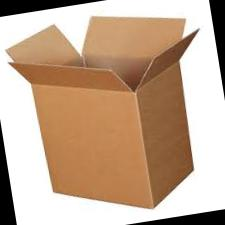Kertas: (6, 16, 196, 207)
